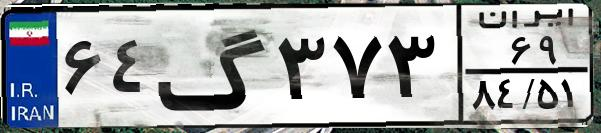1: (560, 70, 590, 125)
3: (270, 28, 330, 110), (385, 28, 445, 110)
4: (110, 28, 156, 98), (495, 70, 520, 125)
5: (535, 70, 560, 125)
6: (57, 26, 110, 100), (508, 27, 537, 80)
7: (330, 28, 385, 110)
8: (470, 70, 495, 125)
9: (537, 27, 568, 80)
گ: (156, 12, 270, 120)
